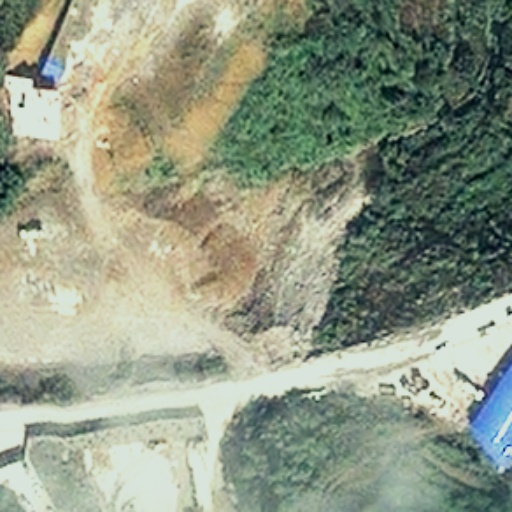landslide: (170, 176, 368, 350)
